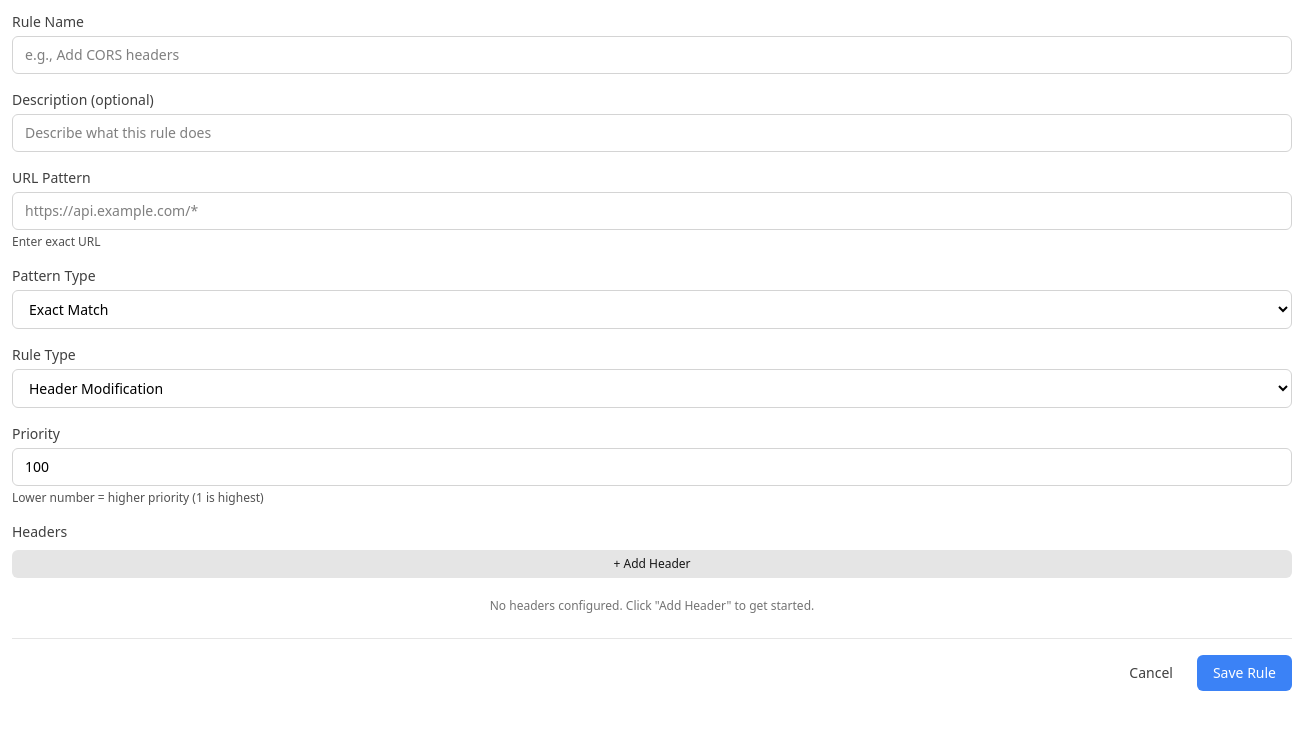
RuleEditor › Validation › should require URL pattern
The image size is (1304, 732).
In the field labelled "Rule Name": (652, 55) [12, 36, 1292, 74], type "Test Rule"
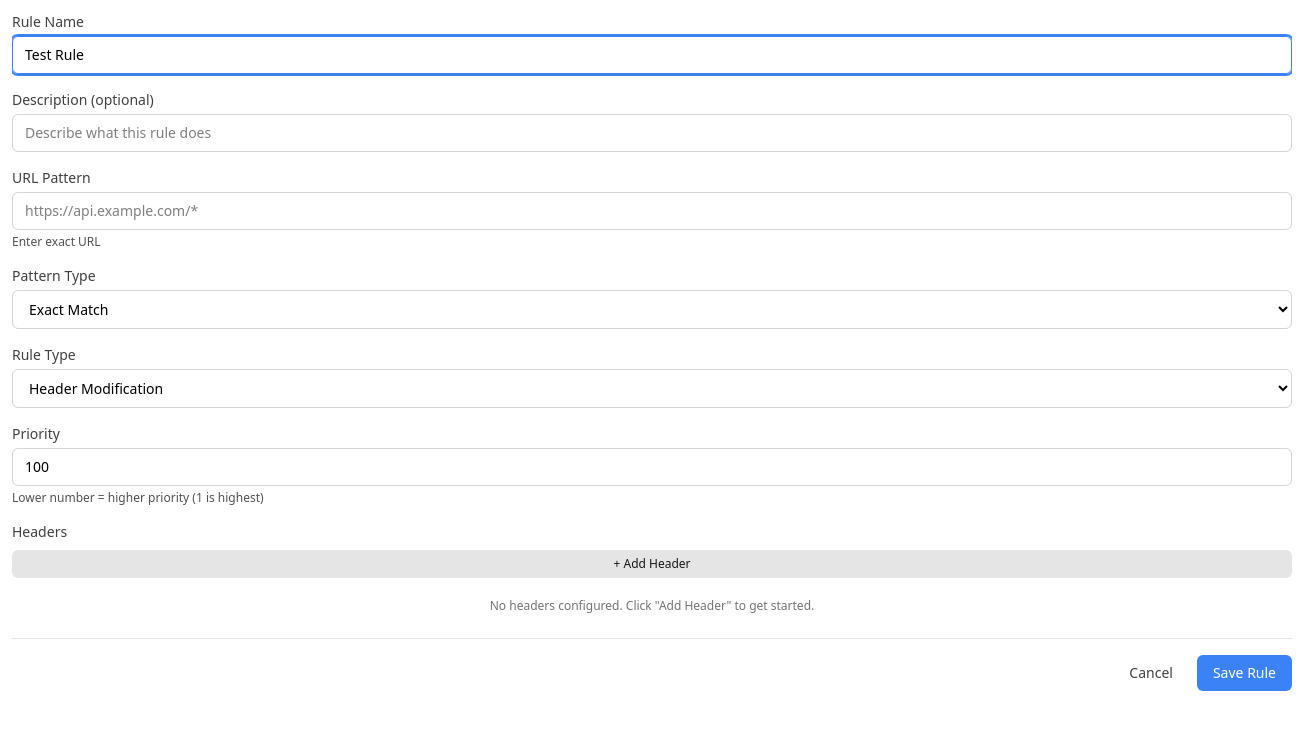
Clear the field labelled "URL Pattern": (652, 211) [12, 192, 1292, 230]
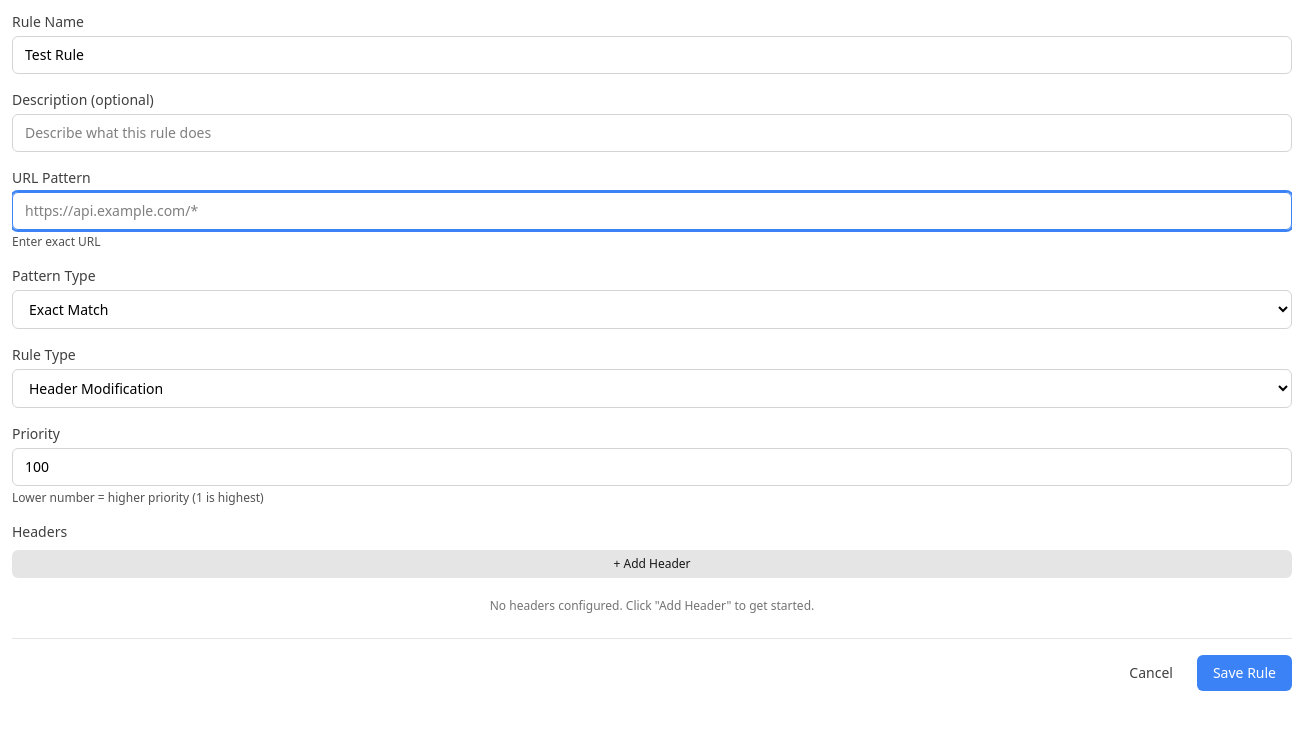
Click the button "Save Rule": (1244, 673) [1197, 655, 1292, 691]
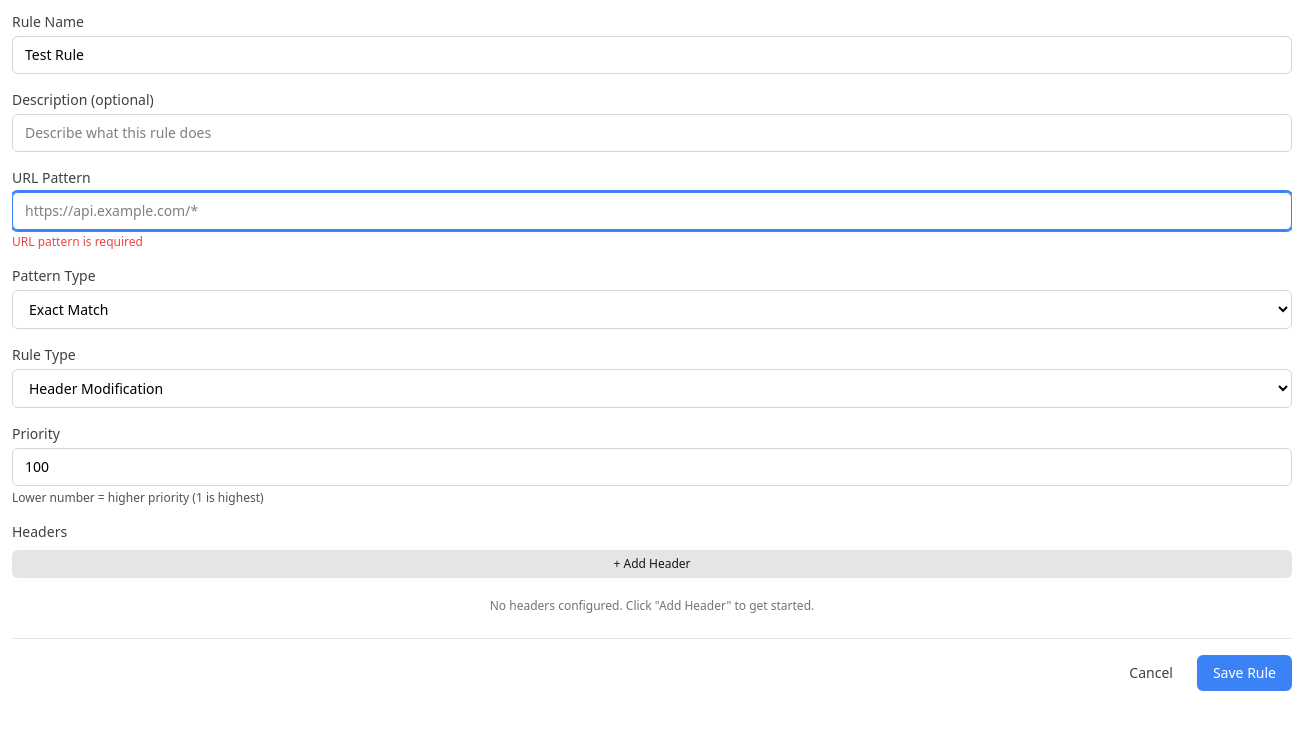
Now the text "URL pattern is required" is shown, box [12, 233, 143, 250]
